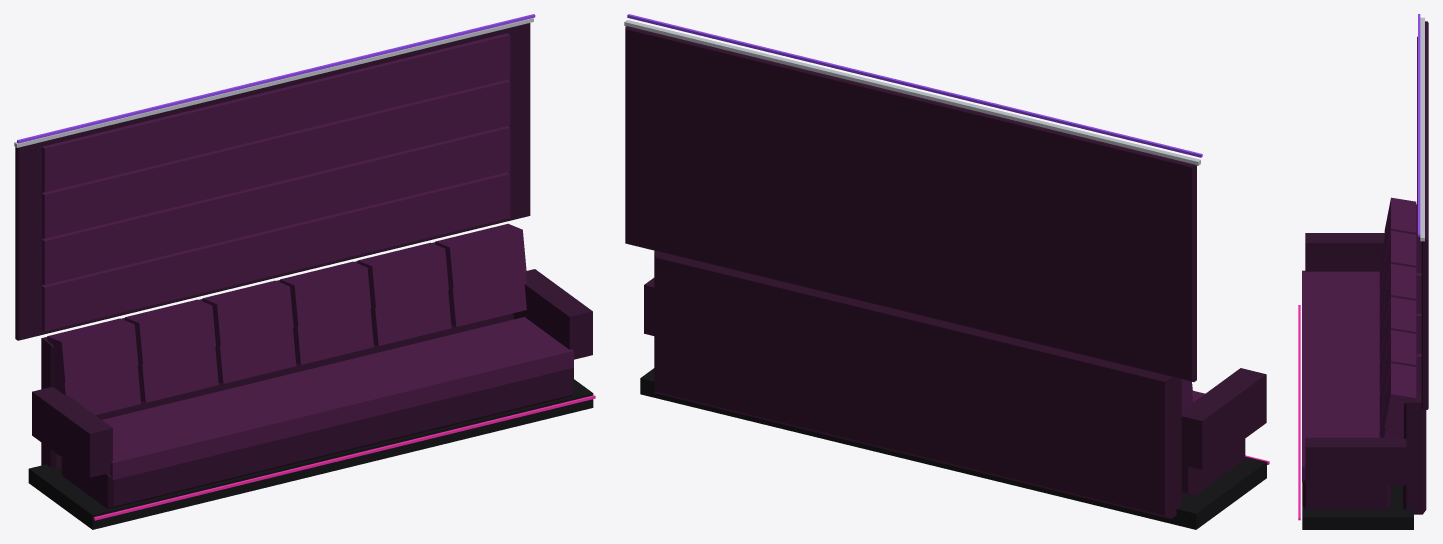
The model's file is vip.glb.
The picture shows the model from 3 angles, left to right: view 1: azimuth 30°, elevation 25°; view 2: azimuth 150°, elevation 25°; view 3: azimuth 270°, elevation 25°; orthographic projection. The views are drawn at different scales.
Visible parts, largest first — view 1: velvet3, velvetDark2, velvetDark19, black0, velvetDark17, velvet10, velvet11, velvet12, velvet13, velvet15, velvet14, velvetDark16 (+42 smaller); view 2: velvetDark19, velvetDark16, black0, velvetDark17, chrome52, glowPurple53, velvetDark2; view 3: velvet3, velvetDark18, velvetDark17, black0, velvetDark16, velvetDark19, velvetDark2, velvet15, velvet12, velvet14, velvet11, velvet13 (+14 smaller).
Boxes of the visible parts, x1,y1,x2,y2 form: velvet3: (102,317,573,479); velvetDark2: (61,368,573,509); velvetDark19: (15,23,530,340); black0: (28,379,593,529); velvetDark17: (32,387,112,477); velvet10: (47,318,138,383); velvet11: (125,299,215,364); velvet12: (202,280,293,345); velvet13: (280,261,371,326); velvet15: (435,223,526,288); velvet14: (357,242,448,307); velvetDark16: (41,242,513,467); velvetDark19: (625,26,1196,381); velvetDark16: (654,251,1181,518); black0: (640,368,1266,529); velvetDark17: (1181,368,1266,469); chrome52: (624,20,1200,165); glowPurple53: (627,14,1202,157); velvetDark2: (1181,439,1245,496); velvet3: (1302,270,1379,482); velvetDark18: (1305,437,1406,485); velvetDark17: (1305,233,1384,271); black0: (1302,485,1413,529); velvetDark16: (1403,204,1426,514); velvetDark19: (1421,21,1428,409); velvetDark2: (1302,480,1390,509); velvet15: (1384,363,1416,429); velvet12: (1384,264,1416,328); velvet14: (1384,330,1416,394); velvet11: (1384,230,1416,294); velvet13: (1384,297,1416,361).
Bounding box in the file's own units: 4.44 × 2.81 × 1.11.
